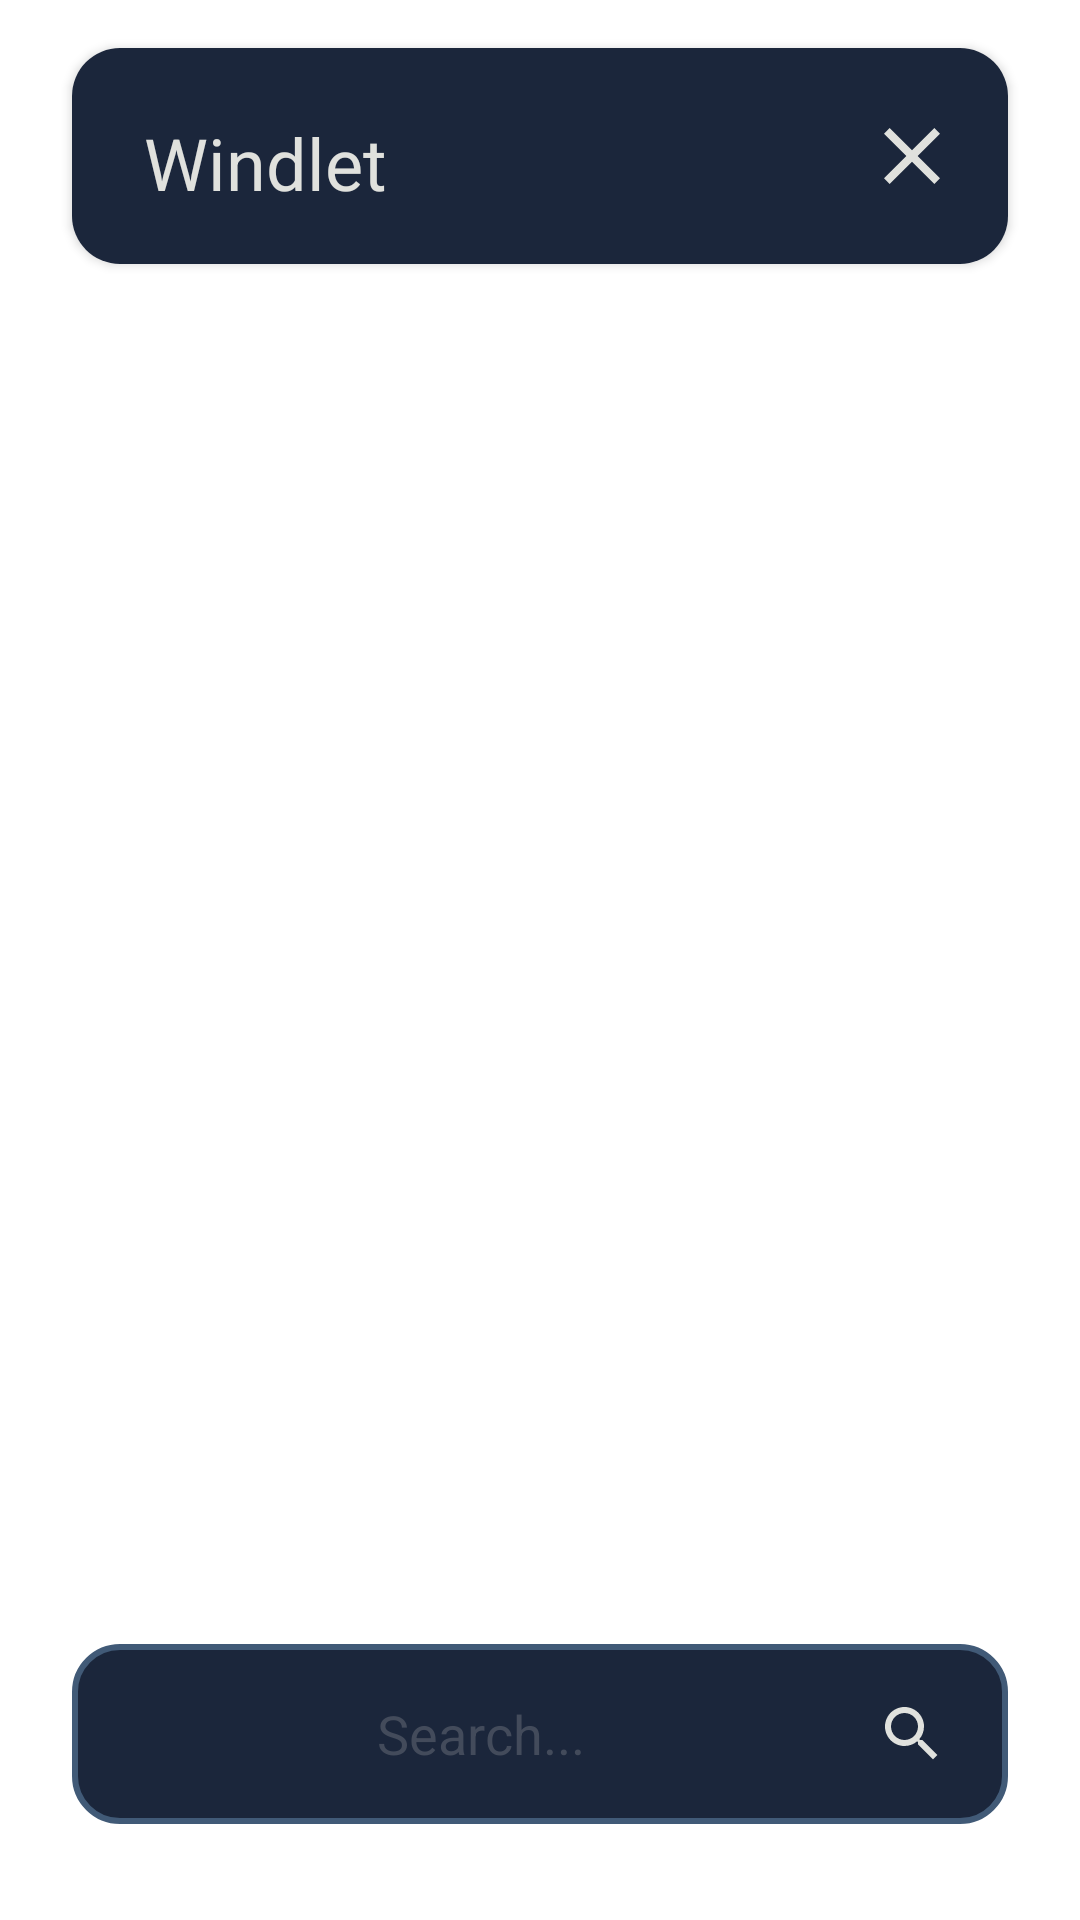

Icons on this 1080*1920 Android screen, each with the point to tap as (x,y):
Close Button: (912,156)
